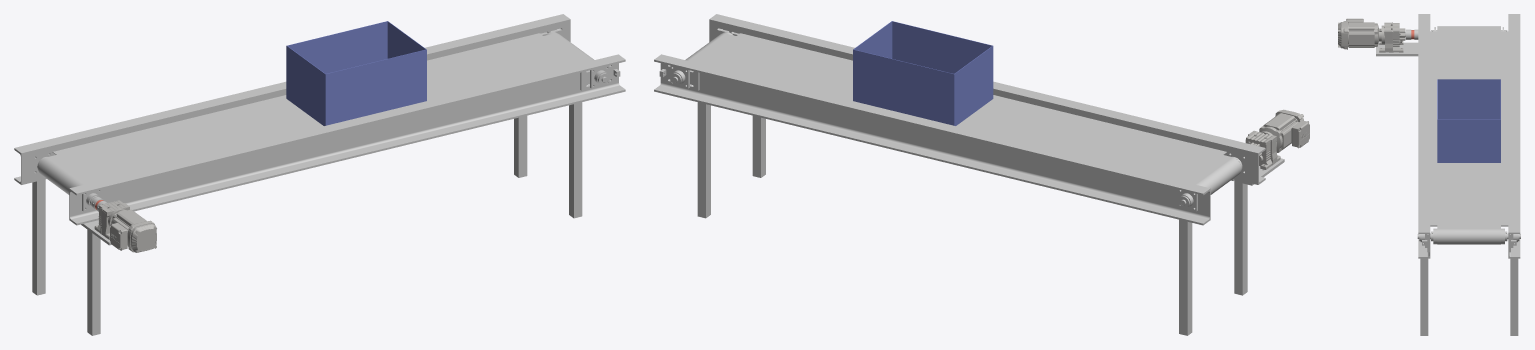
The model's file is conveyor.glb.
3 renders of one model, left to right at view 1: azimuth 30°, elevation 25°; view 2: azimuth 150°, elevation 25°; view 3: azimuth 270°, elevation 25°, orthographic. The views are drawn at different scales.
Visible parts, largest first — view 1: Belt_Conveyor_Assembly; view 2: Belt_Conveyor_Assembly; view 3: Belt_Conveyor_Assembly.
Boxes of the visible parts, box(x1,y1,x2,y2) form: Belt_Conveyor_Assembly: box(14, 14, 625, 335); Belt_Conveyor_Assembly: box(654, 14, 1309, 335); Belt_Conveyor_Assembly: box(1338, 14, 1520, 335).
Bounding box in the file's own units: 3254 × 1100 × 1149.
